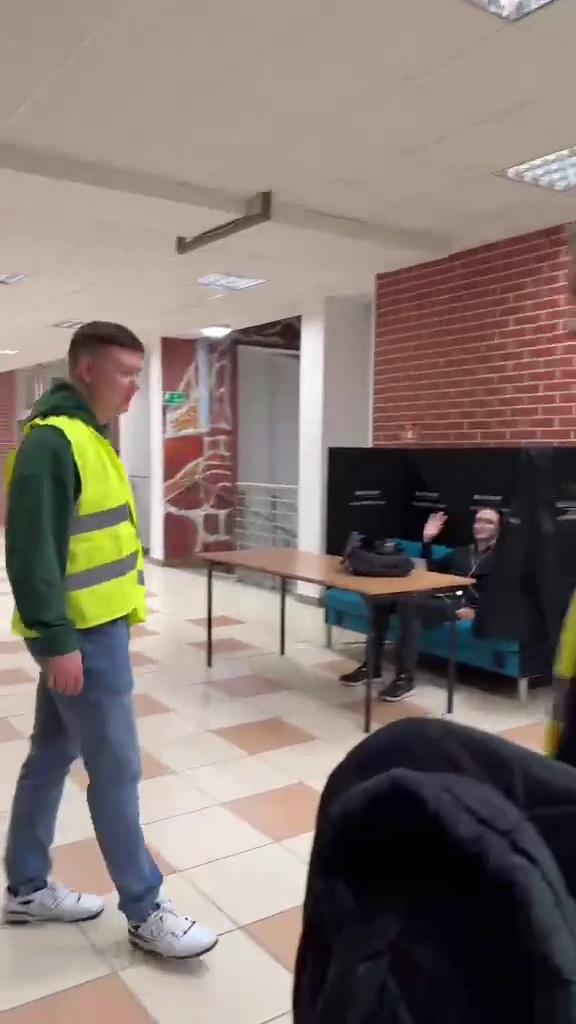no vest: (378, 500, 511, 680)
vest: (6, 306, 220, 964)
